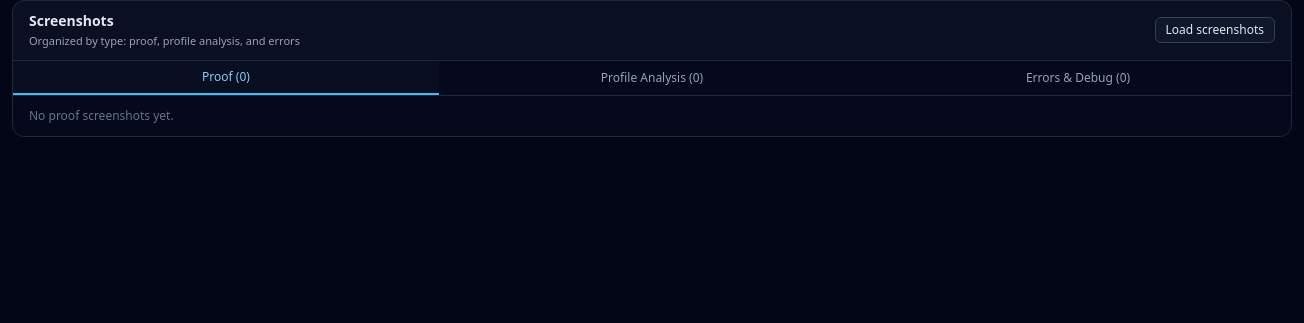
Scenario: Screenshots › loads screenshots when clicking Load screenshots button
Click the button "Load screenshots" at (1215, 30), box [1154,17,1275,43]
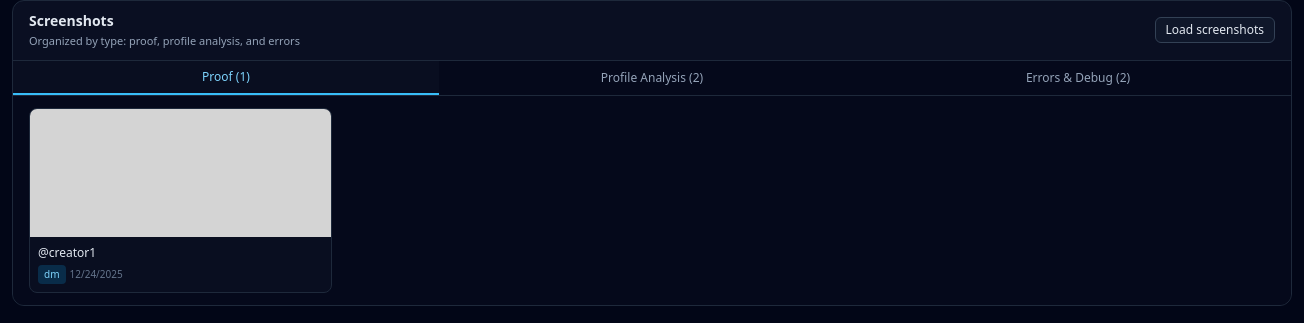
Check: the text "@creator1" is shown, box [38,244,96,260]
